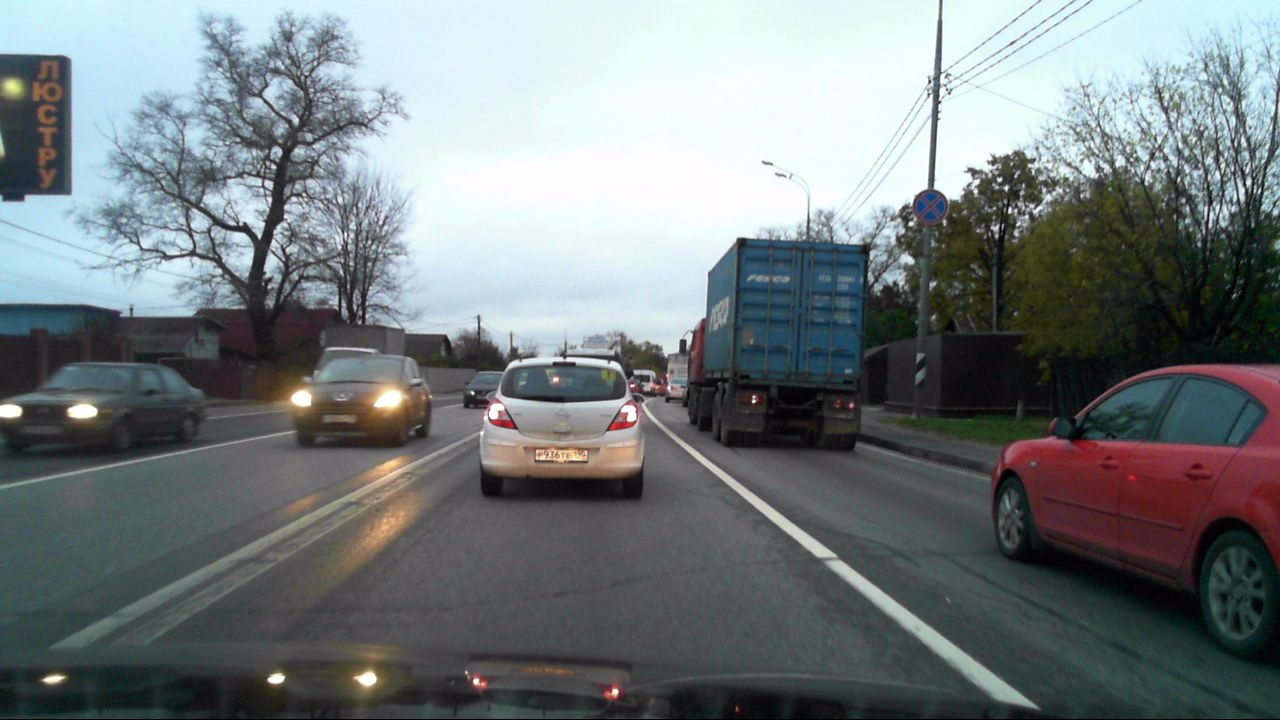No Parking: (913, 189, 947, 223)
